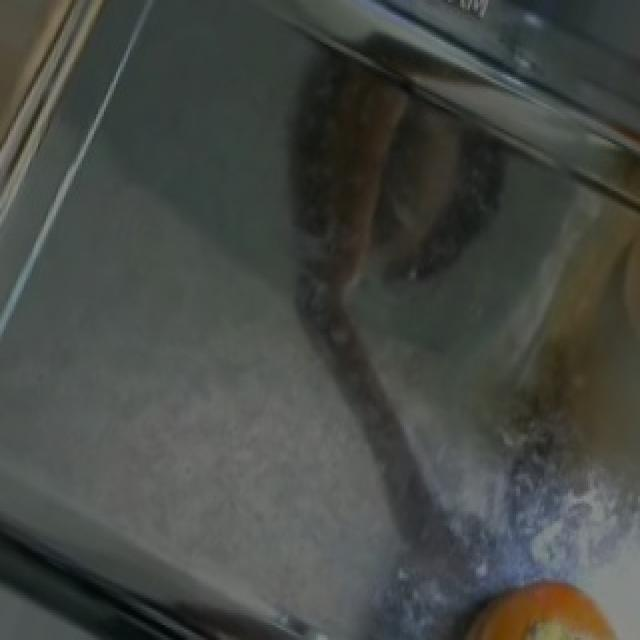Fruit: (440, 568, 634, 638)
